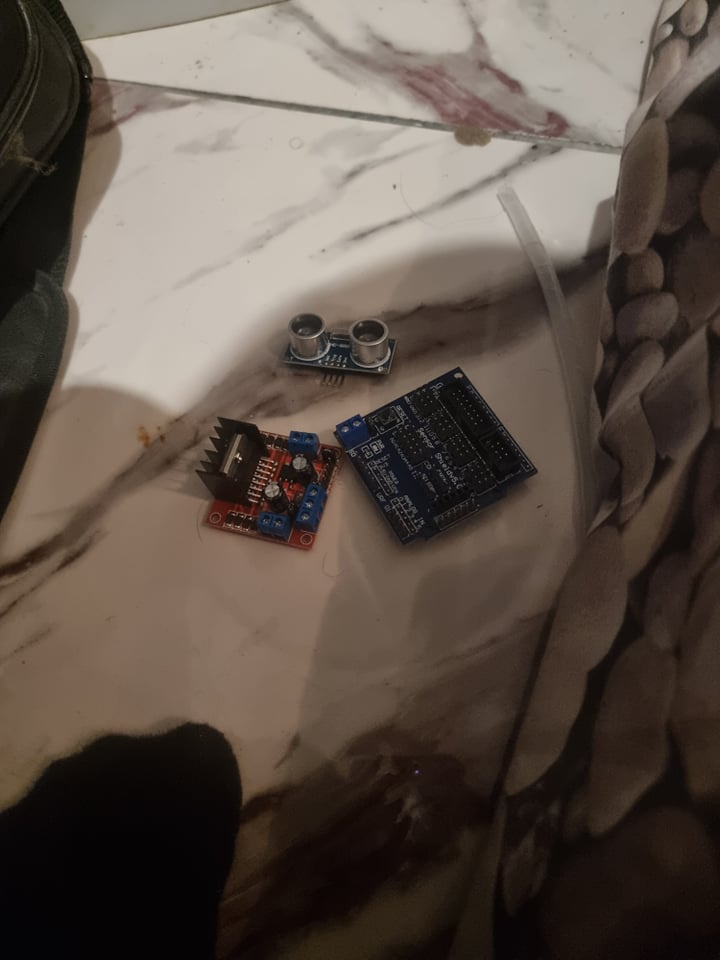5V EXPANSION: (333, 365, 539, 546)
MOTOR: (196, 415, 341, 551)
SENSOR: (285, 313, 398, 377)
